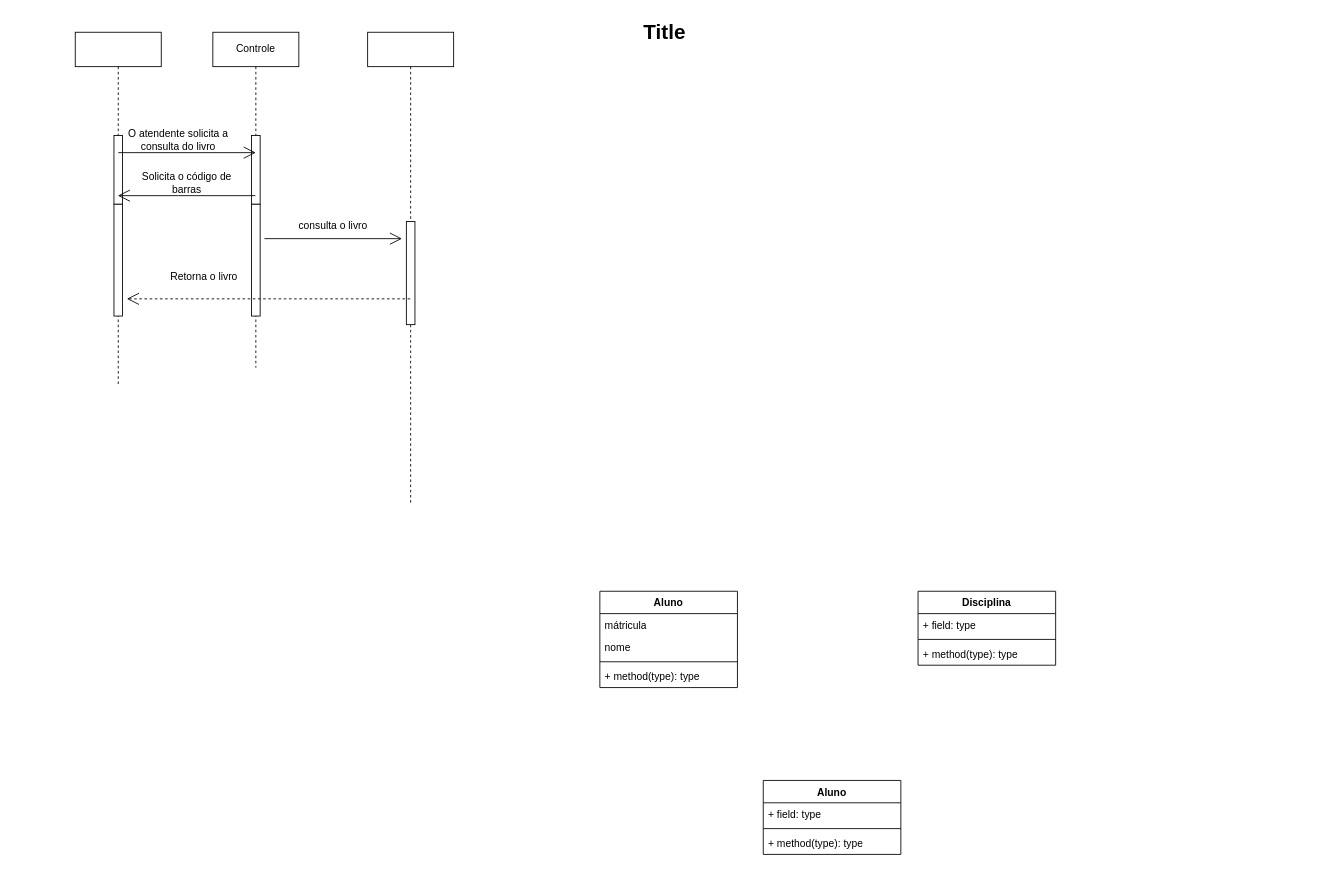
Some shapes in this 1328 by 871 pixel diagram are drawn without their labels. The box of each missing label's shape, as (x1, y1, x2, y2) in pixels:
Atendente: (74, 31, 161, 385)
Banco de dados: (367, 31, 454, 505)
